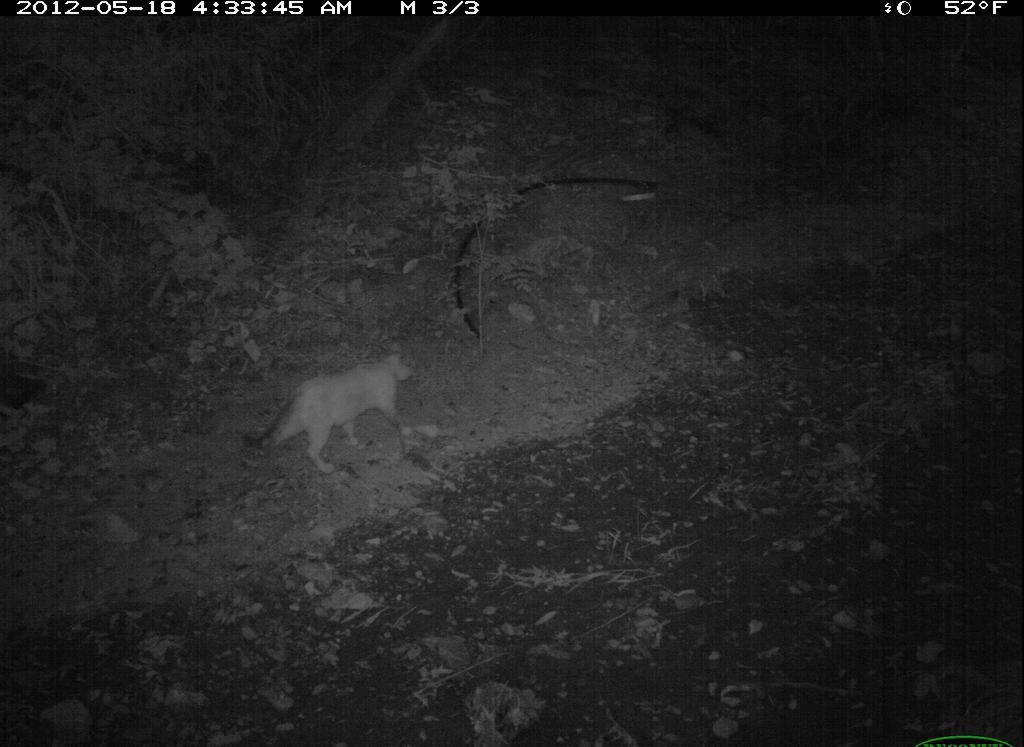cat: (205, 322, 454, 484)
